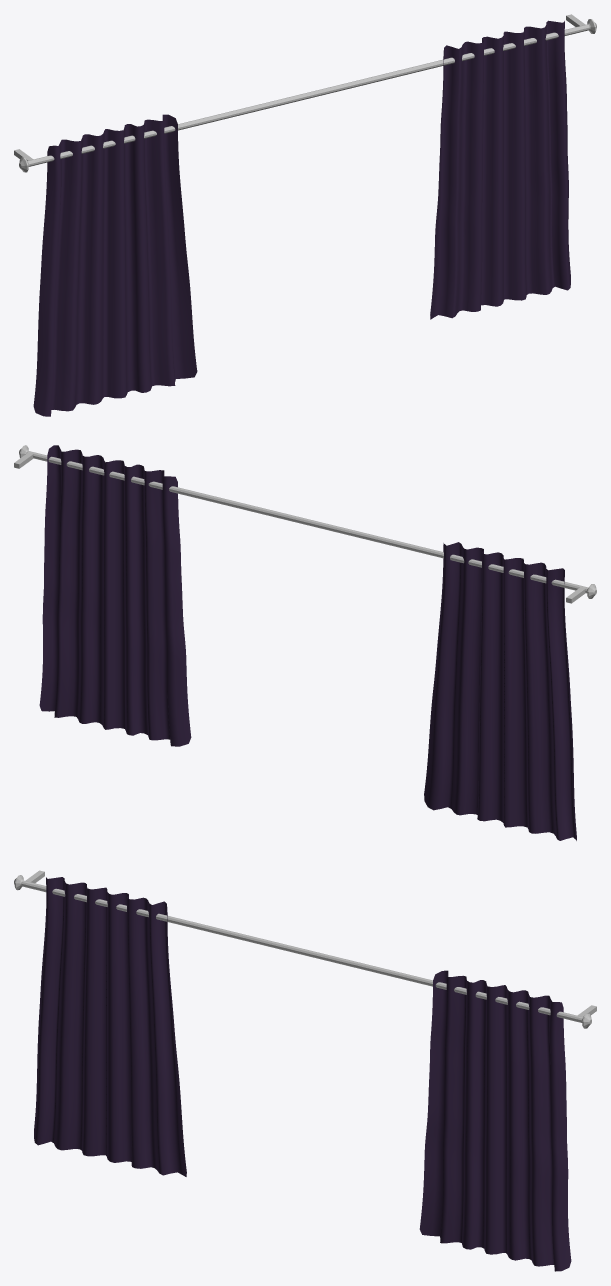
The model's file is curtains_nonuv.fbx.
The picture shows the model from 3 angles, top to bottom: view 1: azimuth 30°, elevation 25°; view 2: azimuth 150°, elevation 25°; view 3: azimuth 330°, elevation 25°; orthographic projection.
Parts seen in each view (by area): view 1: firanki; view 2: firanki; view 3: firanki.
Boxes of the visible parts, x1,y1,x2,y2 form: firanki: (14,14,596,416); firanki: (14,445,596,840); firanki: (14,870,596,1271).
Size of the model in its own units: 3.75 by 1.67 by 0.2167.
